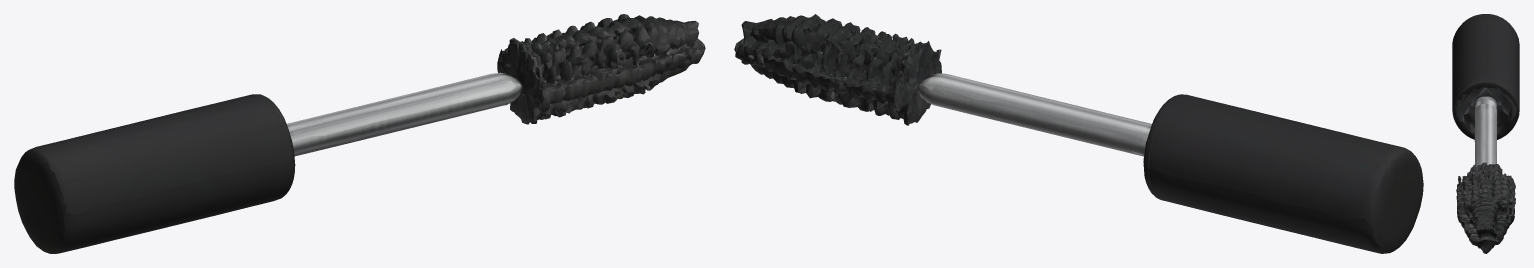
Rendered from mascara_wand_glb.glb.
3 views of the same model, side by side, from view 1: azimuth 30°, elevation 25°; view 2: azimuth 150°, elevation 25°; view 3: azimuth 270°, elevation 25° (orthographic). The views are drawn at different scales.
Parts seen in each view (by area): view 1: geometry_0; view 2: geometry_0; view 3: geometry_0.
Part boxes in pixels (bbox=[...]): geometry_0: bbox=[14, 14, 705, 253]; geometry_0: bbox=[734, 14, 1423, 253]; geometry_0: bbox=[1452, 14, 1519, 253].
Size of the model in its own units: 0.125 by 0.018 by 0.0179.
Materials: 1 (1 with a texture image).
